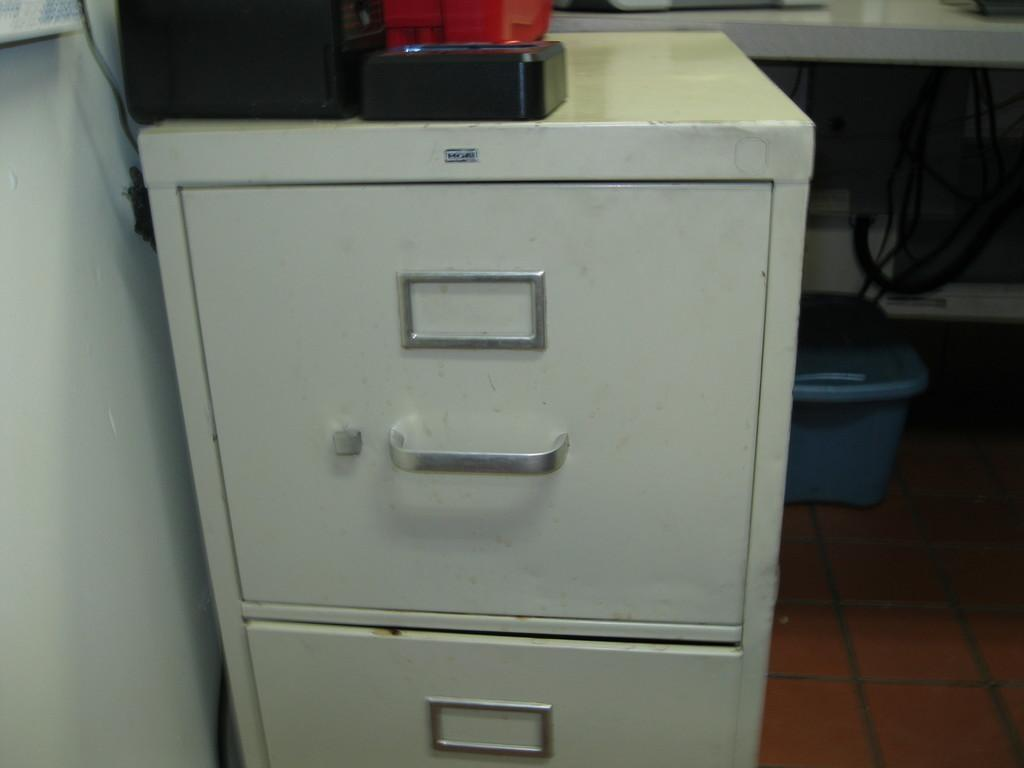Filing Cabinet: (138, 118, 814, 767)
